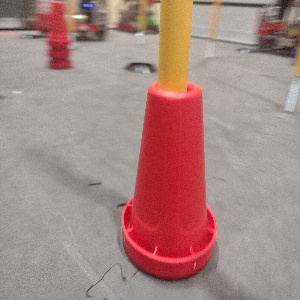Red_1: (120, 76, 217, 279)
